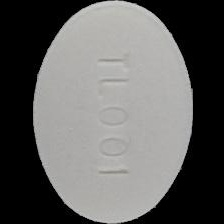61919-149: (0, 0, 224, 224)
